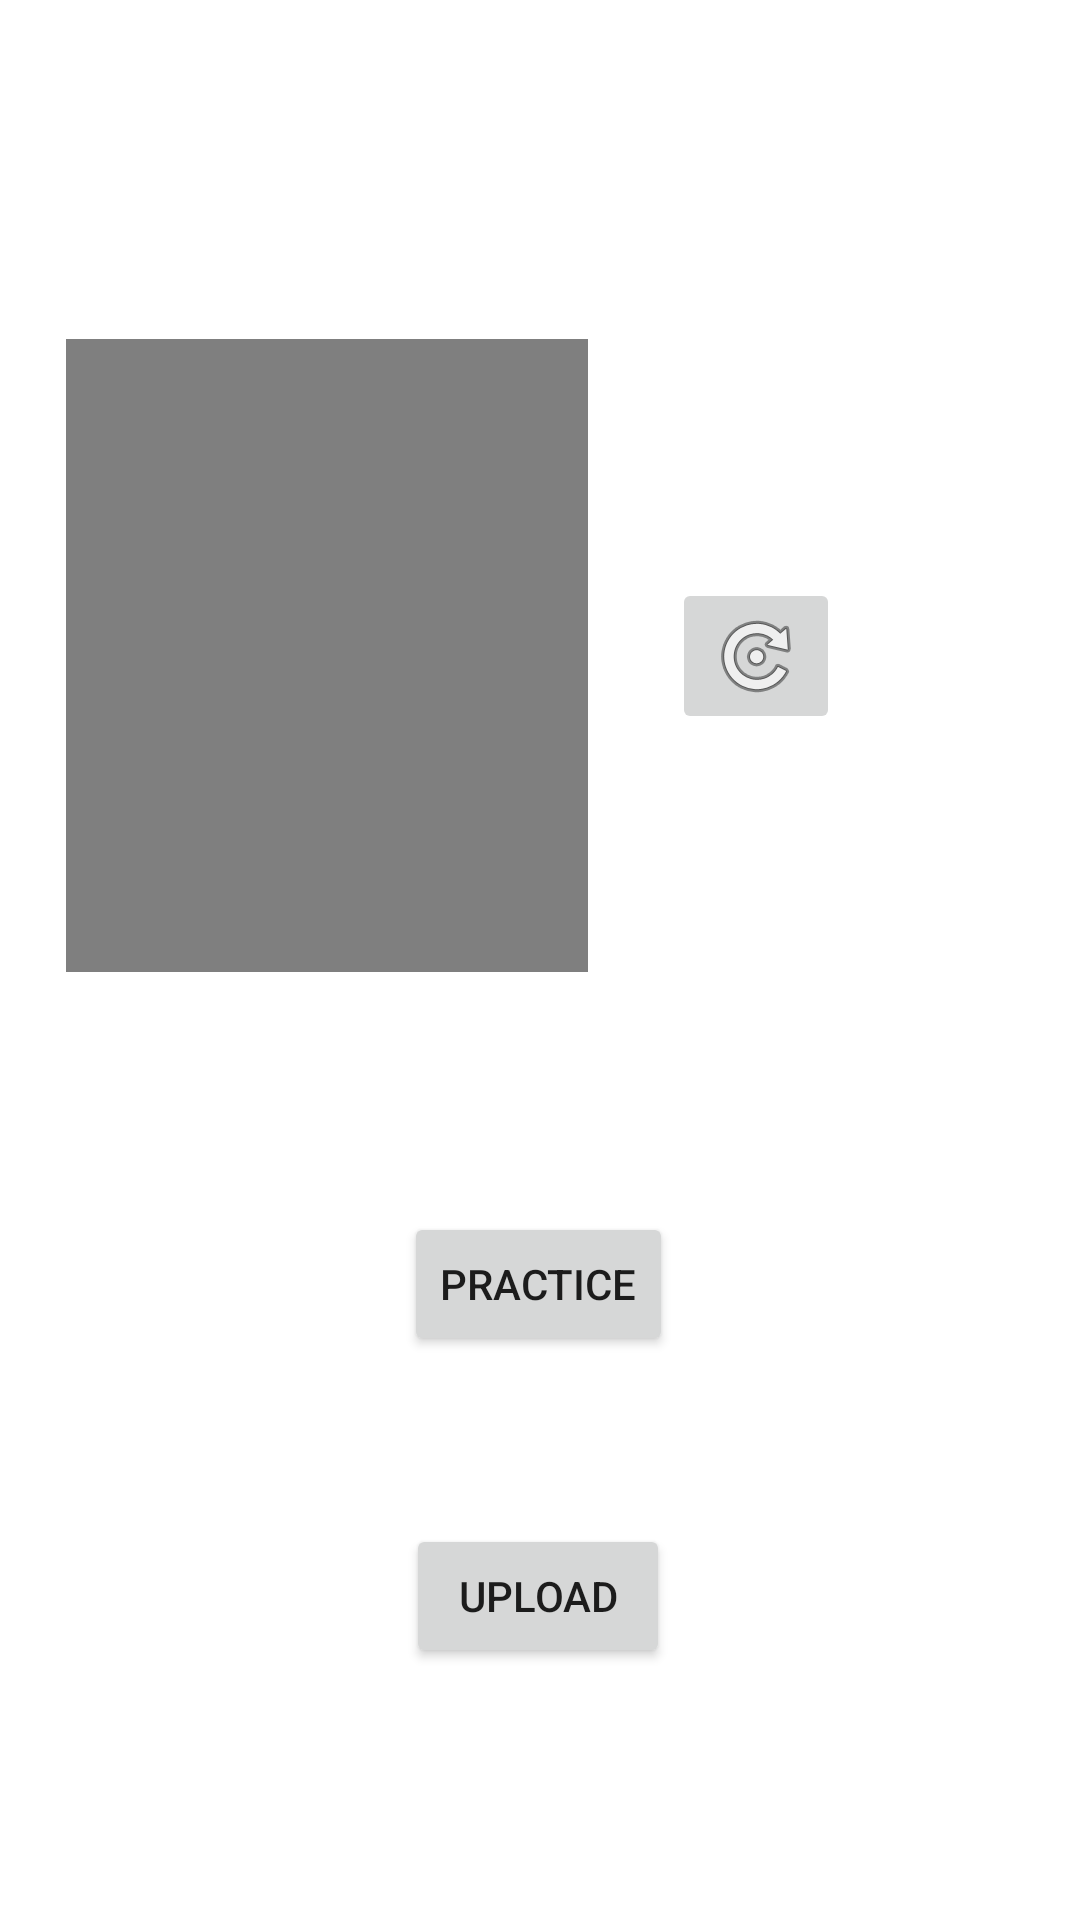

Named icons in this screenshot (1080 × 1920) and their centers, (x,y):
rotate: (756,656)
